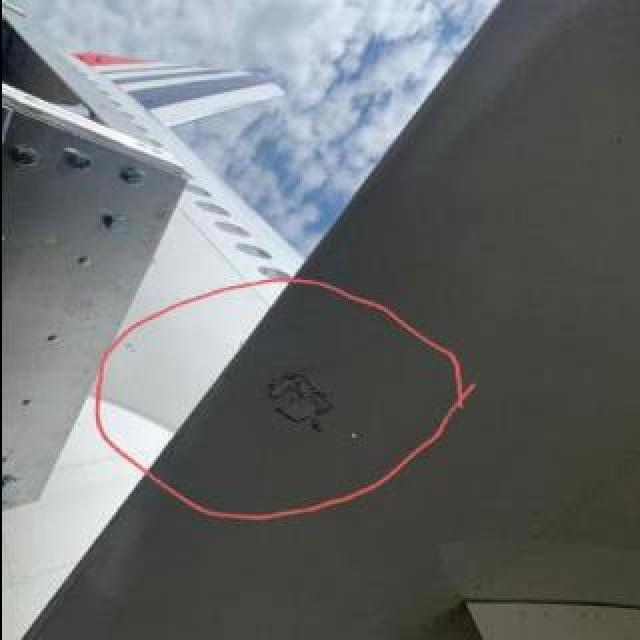crack: (270, 378, 324, 422)
